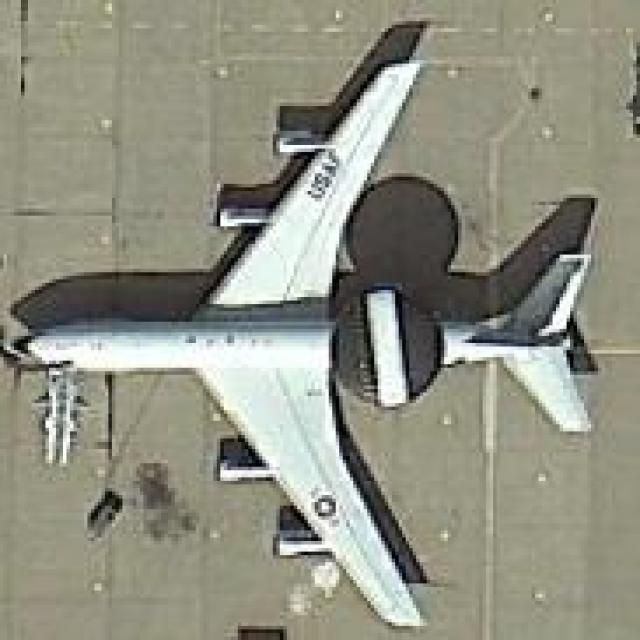E-3_TopDown: (0, 14, 602, 626)
